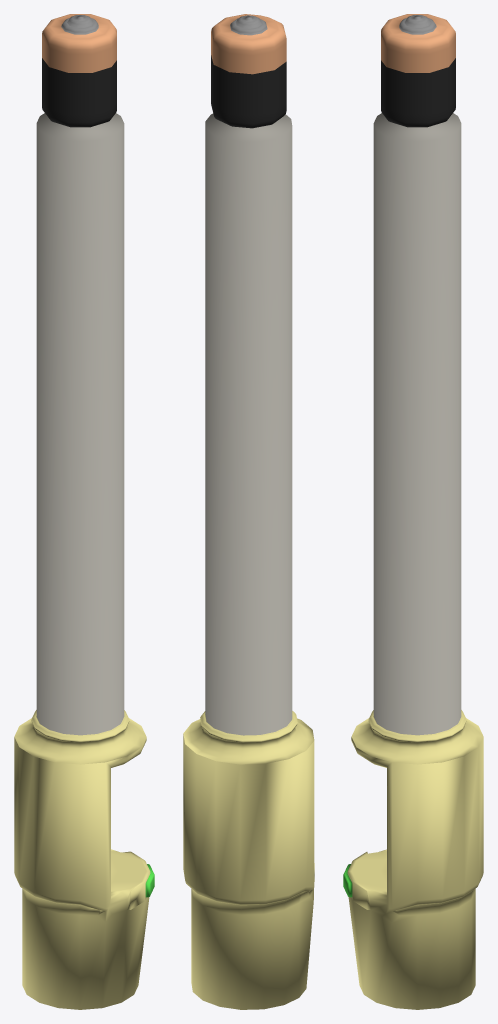
File: battery_dispenser.fbx
3 renders of one model, left to right at view 1: azimuth 90°, elevation 25°; view 2: azimuth 150°, elevation 25°; view 3: azimuth 270°, elevation 25°, orthographic.
Parts seen in each view (by area): view 1: Circle.004, Circle.003; view 2: Circle.004, Circle.003; view 3: Circle.004, Circle.003.
Part boxes in pixels (<box>): Circle.004: <box>14,113,154,1009</box>; Circle.003: <box>42,14,116,127</box>; Circle.004: <box>183,113,314,1009</box>; Circle.003: <box>211,14,286,128</box>; Circle.004: <box>343,113,483,1009</box>; Circle.003: <box>381,14,455,127</box>.
Bounding box in the file's own units: 265 × 2145 × 282.
